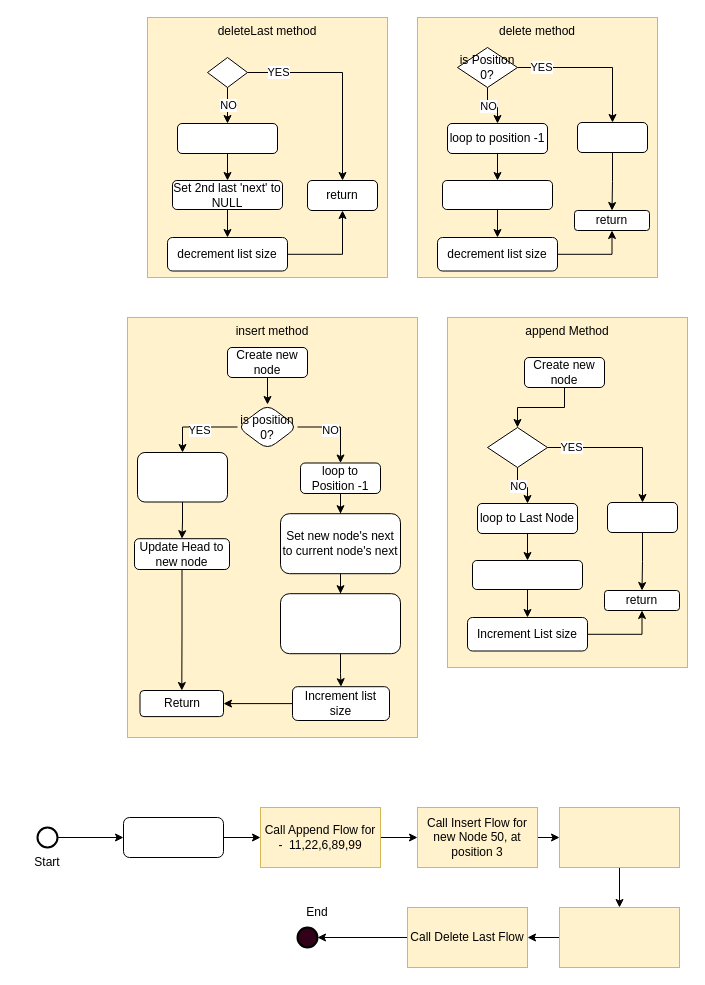
Image size: 705x985. Some labels were removed from this diagram. The centre of each missing label's shape, as x and y in pixels:
Call Delete Flow for 1st Element: (619,937)
Call Delete Flow for 2nd Element: (619,837)
Create Linked List Instance: (173,837)
Is Head Null?: (517,447)
listSize == 0?: (227,72)
loop 'til 2nd Last node: (227,138)
Set Current node's next to new node: (340,623)
Set Current.next to current.next.next: (497,195)
Set Head to new Node: (642,517)
Set Last Node's next to New Node: (527,575)
Set new node's next to Head: (182,477)
update head to head.next: (612,137)
